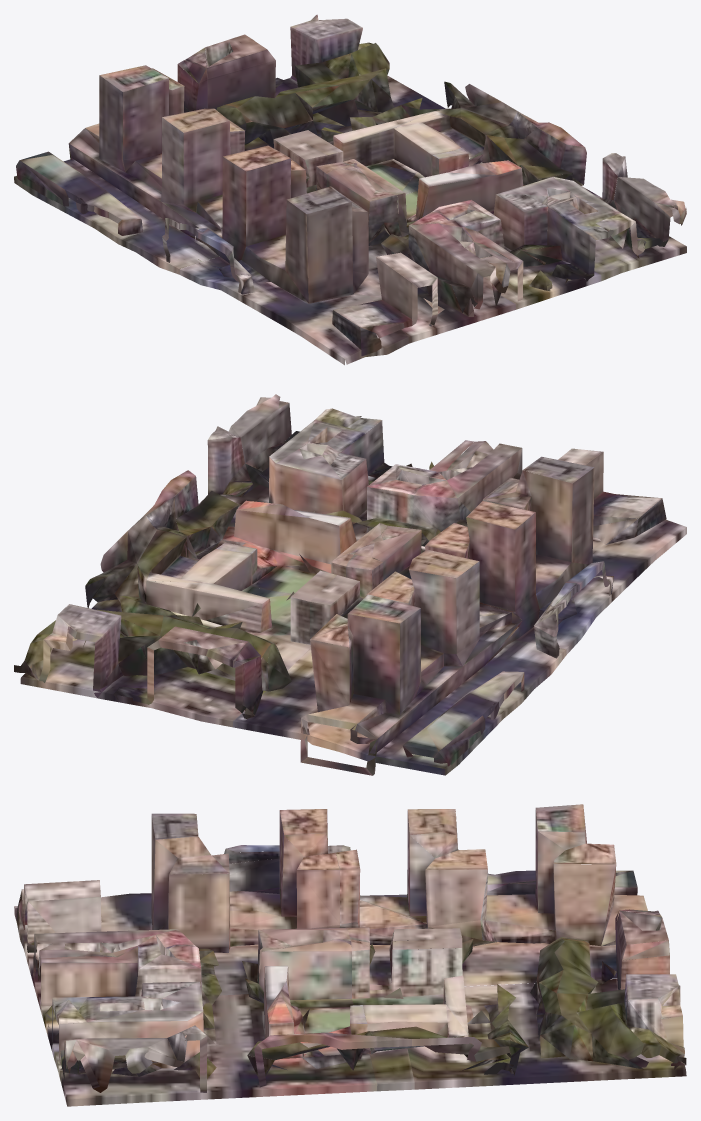
The picture shows the model from 3 angles, top to bottom: view 1: azimuth 30°, elevation 25°; view 2: azimuth 150°, elevation 25°; view 3: azimuth 270°, elevation 25°; orthographic projection. The views are drawn at different scales.
Visible parts, largest first — view 1: Mesh_0; view 2: Mesh_0; view 3: Mesh_0.
Part boxes in pixels (x1=…): Mesh_0: x1=14, y1=14, x2=686, y2=365; Mesh_0: x1=14, y1=394, x2=686, y2=775; Mesh_0: x1=14, y1=804, x2=686, y2=1106.
Bounding box in the file's own units: 266 × 73.23 × 330.
Materials: 2 (2 with a texture image).
